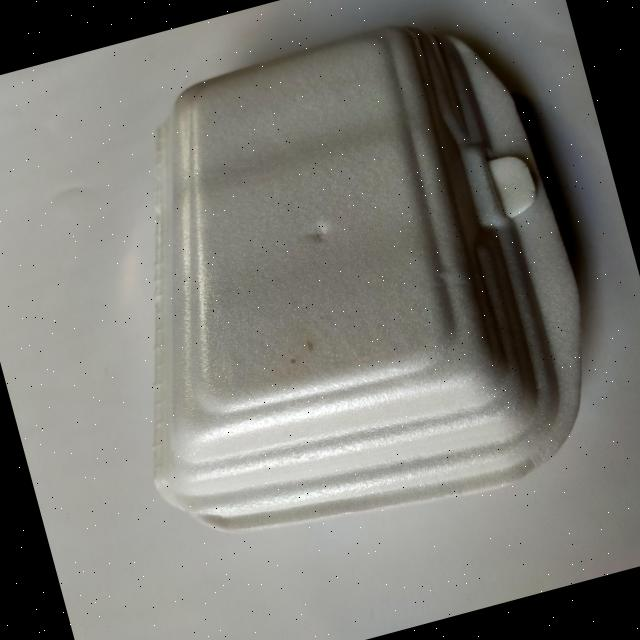styrofoam: (52, 0, 624, 574)
